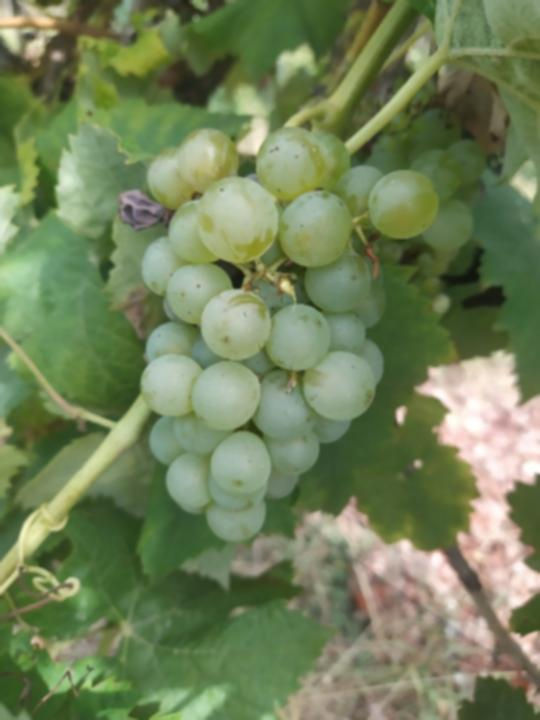grape: (138, 120, 444, 547)
